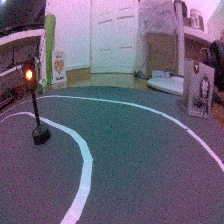amber: (19, 58, 53, 145)
